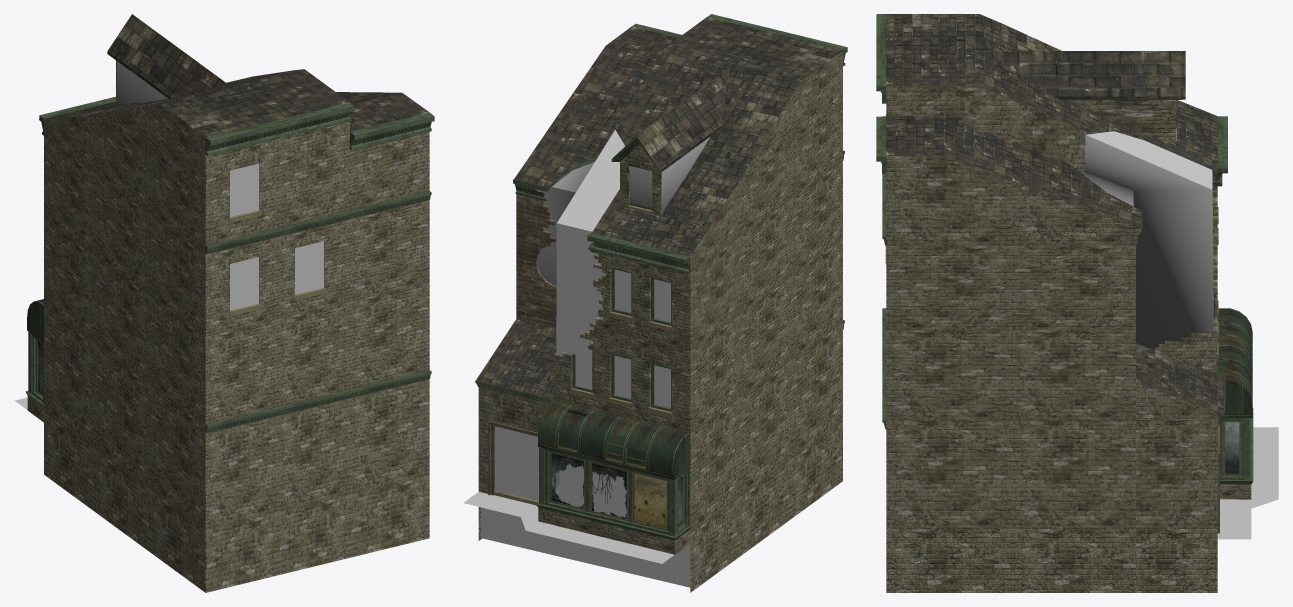
The model's file is OTBuilding04.FBX.
3 views of the same model, side by side, from view 1: azimuth 30°, elevation 25°; view 2: azimuth 150°, elevation 25°; view 3: azimuth 270°, elevation 25° (orthographic). The views are drawn at different scales.
Visible parts, largest first — view 1: OTBldg04:6, OTBldg04:7, OTBldg04_lod:0; view 2: OTBldg04:6, OTBldg04:7, OTBldg04_lod:0, OTBldg04:74, OTBldg04:12, OTBldg04:34; view 3: OTBldg04:6, OTBldg04:7, OTBldg04_lod:0, OTBldg04:74.
Part boxes in pixels (x1,y1,x2,y2): OTBldg04:6: (27,60,429,592); OTBldg04:7: (25,14,434,433); OTBldg04_lod:0: (117,61,324,310); OTBldg04:6: (478,51,842,592); OTBldg04:7: (475,14,847,540); OTBldg04_lod:0: (481,129,710,587); OTBldg04:74: (463,492,674,563); OTBldg04:12: (634,473,666,528); OTBldg04:34: (551,416,645,518); OTBldg04:6: (886,86,1251,592); OTBldg04:7: (876,14,1253,533); OTBldg04_lod:0: (1076,131,1213,350); OTBldg04:74: (1217,427,1278,539).
Size of the model in its own units: 6.45 by 12.44 by 9.72.
